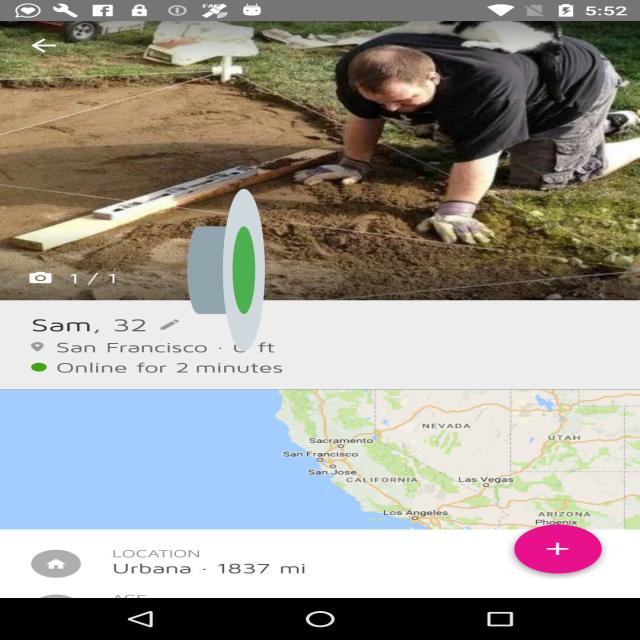social proof: (187, 120, 265, 420)
